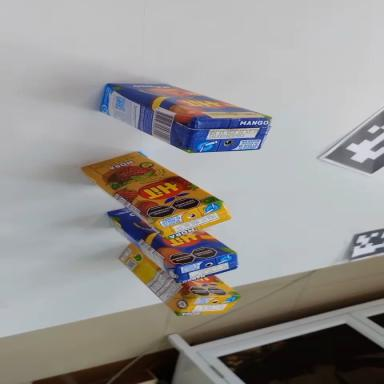HIT-MANGO: (94, 65, 273, 174), (99, 178, 243, 305)
HIT-MORA: (73, 132, 236, 261), (108, 242, 244, 333)
cara_F: (74, 130, 221, 248), (104, 179, 236, 290), (105, 66, 272, 141), (183, 274, 240, 298)
